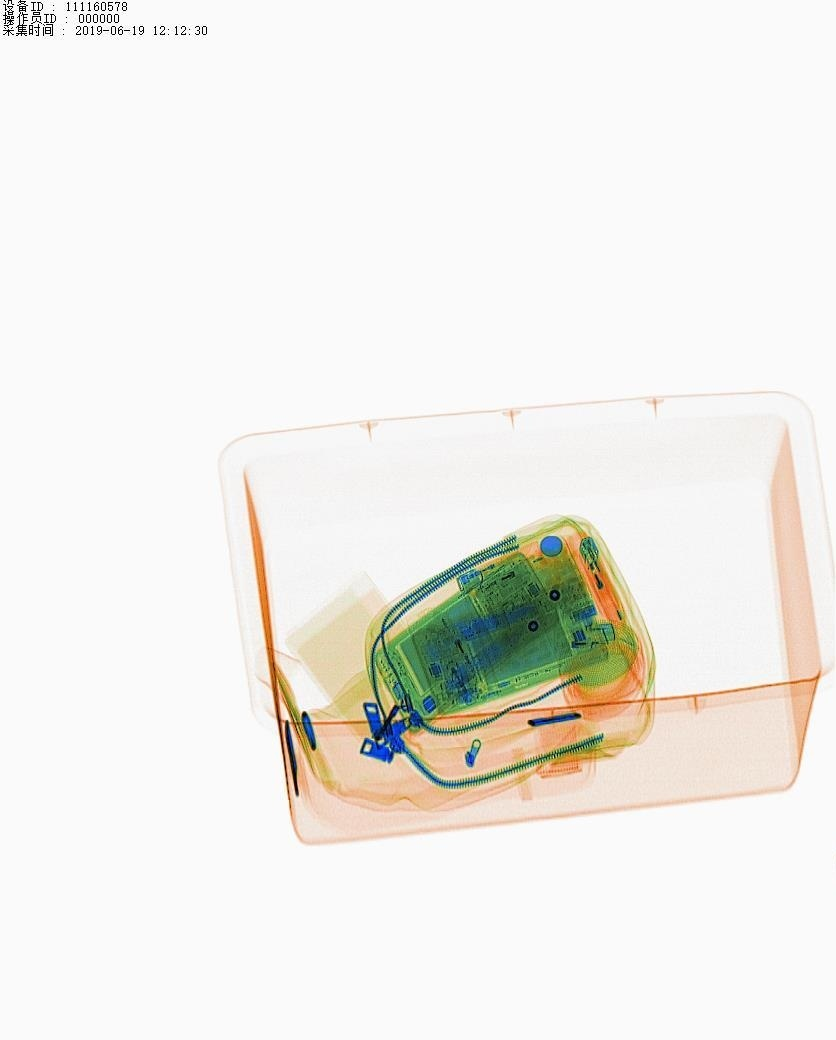NonmetallicFire: (574, 522, 649, 643), (450, 533, 556, 606), (430, 621, 504, 721), (529, 612, 630, 660)
